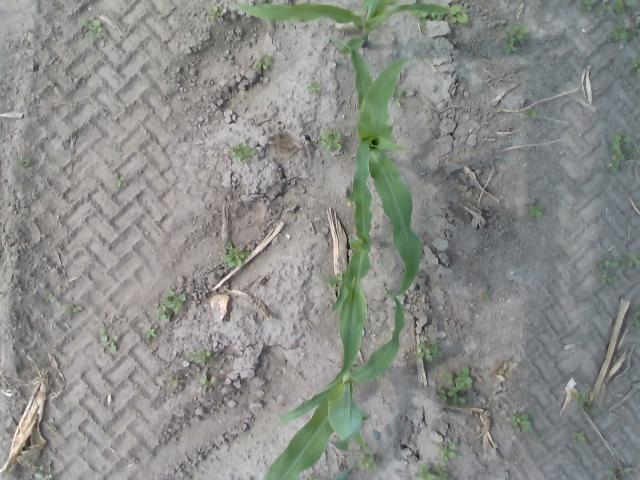Maize: (263, 235, 405, 480), (330, 38, 430, 310), (229, 0, 452, 53), (335, 467, 354, 479)
Weeds: (608, 133, 634, 172), (448, 365, 472, 404), (221, 246, 251, 268), (322, 131, 342, 154), (417, 342, 439, 362), (98, 333, 119, 353), (606, 466, 632, 480), (608, 28, 638, 40), (166, 290, 186, 308), (440, 441, 457, 461), (232, 144, 255, 158), (508, 24, 526, 41), (452, 5, 466, 25), (86, 18, 100, 38), (512, 414, 530, 429), (412, 463, 430, 478), (158, 306, 172, 324), (200, 369, 215, 385), (254, 57, 270, 71), (187, 349, 206, 360), (308, 77, 321, 93), (434, 463, 449, 476), (628, 254, 640, 270), (598, 261, 619, 270), (360, 455, 376, 466), (169, 376, 183, 388), (571, 429, 585, 441), (529, 204, 543, 215), (436, 388, 447, 400), (629, 318, 640, 330), (114, 174, 125, 186), (330, 272, 340, 284), (208, 6, 218, 18), (576, 393, 584, 407), (526, 108, 536, 119), (602, 272, 611, 284), (615, 1, 624, 13), (70, 304, 82, 313), (584, 0, 596, 9), (22, 158, 32, 168), (147, 328, 157, 338), (599, 4, 608, 15), (632, 59, 640, 71), (508, 42, 516, 54), (50, 294, 56, 303)
